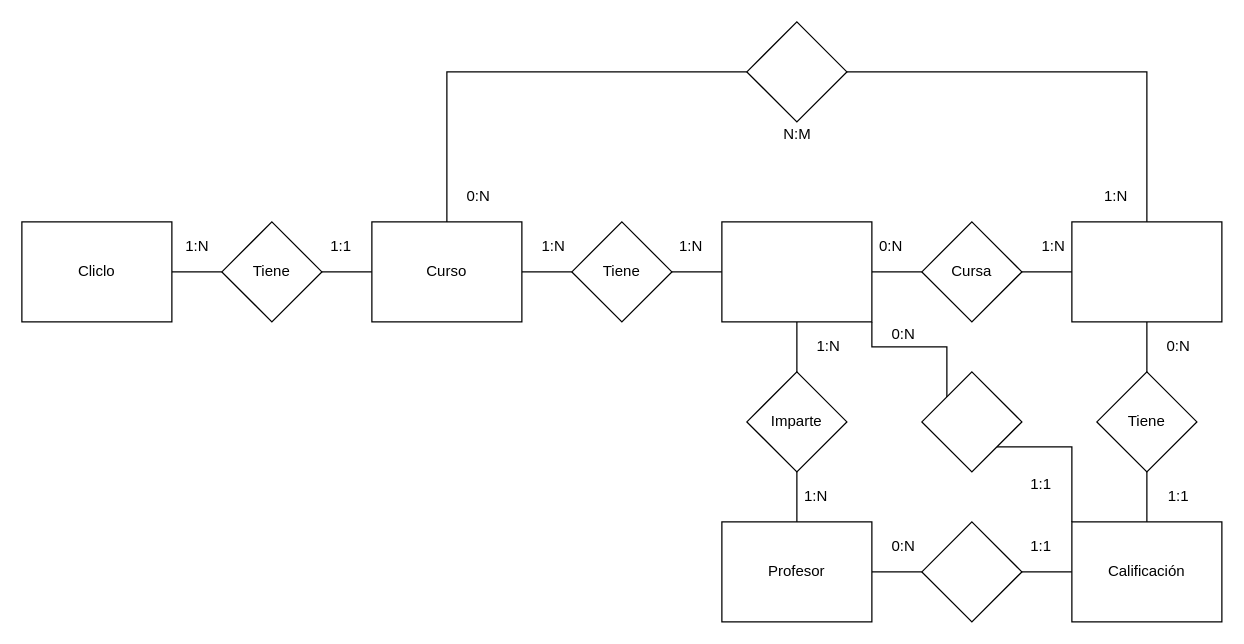
Some shapes in this 1244 by 644 pixel diagram are drawn without their labels. The shapes that lost their labels are listed below. From the top down, each one's centre as x and y in pixels, then its label:
[796,71]: Matricula
[796,271]: Asignatura
[1146,271]: Alumno
[971,421]: Pertenece
[971,571]: Corrige
